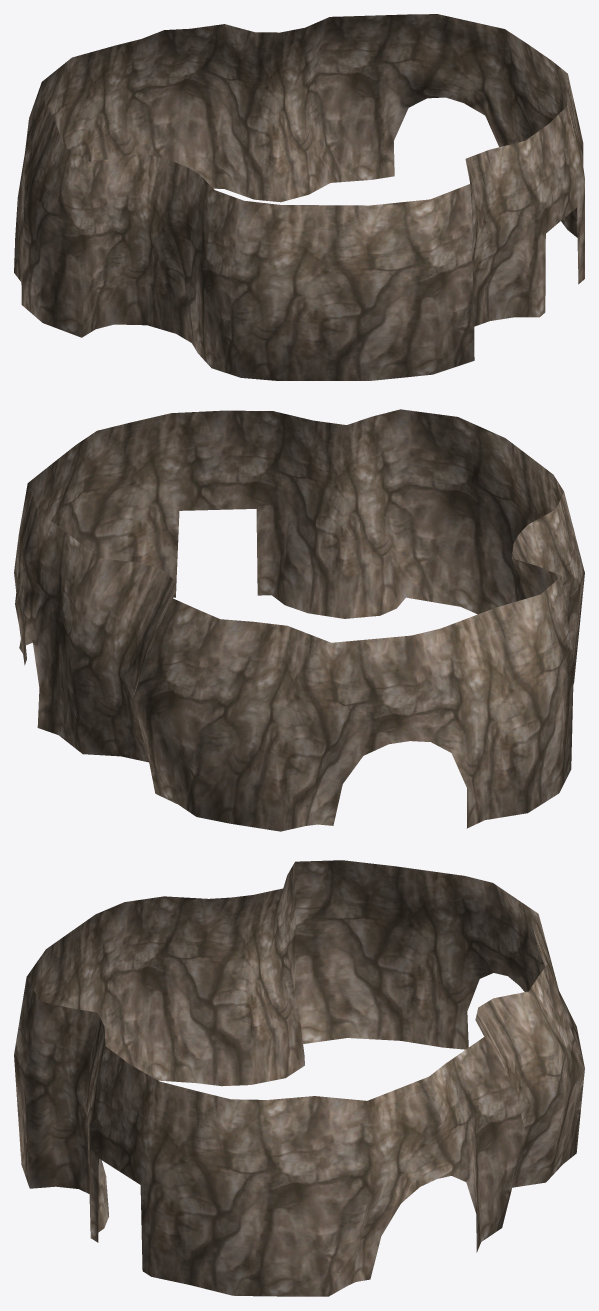
The model's file is EKH_JAIL_PS_JA_SM_CAVE_WALL83837.obj.
3 views of the same model, one above another, from view 1: azimuth 30°, elevation 25°; view 2: azimuth 150°, elevation 25°; view 3: azimuth 270°, elevation 25° (orthographic). The views are drawn at different scales.
Parts seen in each view (by area): view 1: _Cave_Wall83837; view 2: _Cave_Wall83837; view 3: _Cave_Wall83837.
Part boxes in pixels (x1,y1,x2,y2): _Cave_Wall83837: [14, 14, 584, 380]; _Cave_Wall83837: [14, 409, 584, 831]; _Cave_Wall83837: [14, 860, 584, 1296].
Bounding box in the file's own units: 1266 × 429 × 1163.
